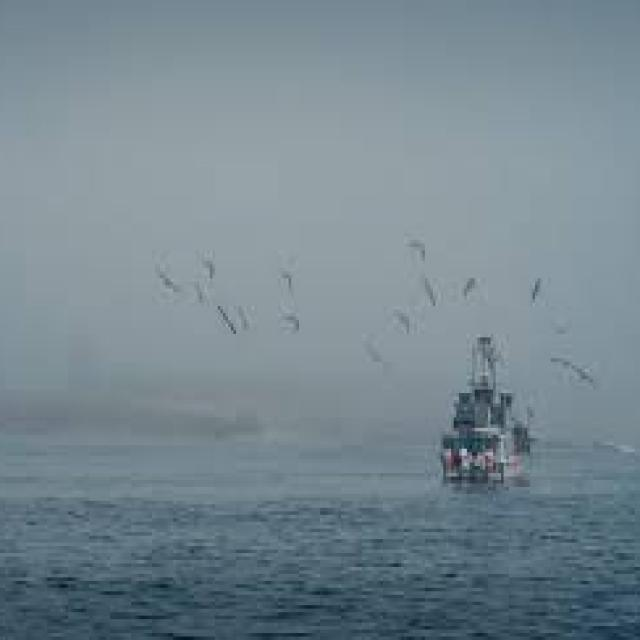fishing boat: (418, 324, 544, 496)
